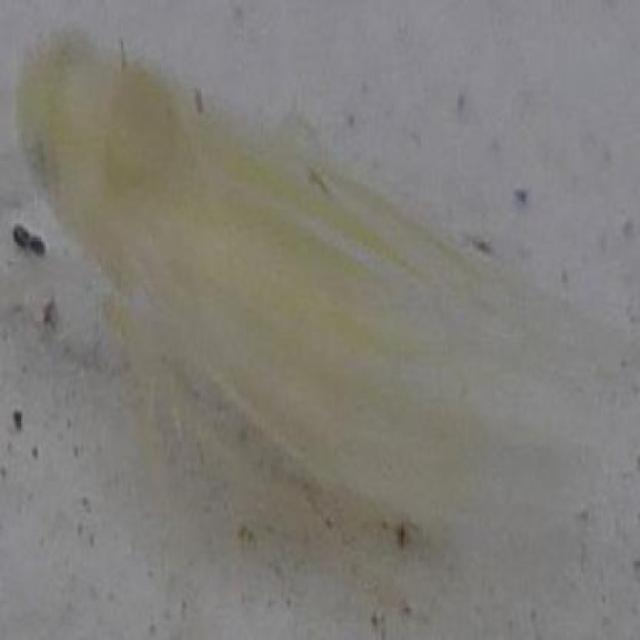green-leafhopper: (20, 21, 558, 534)
